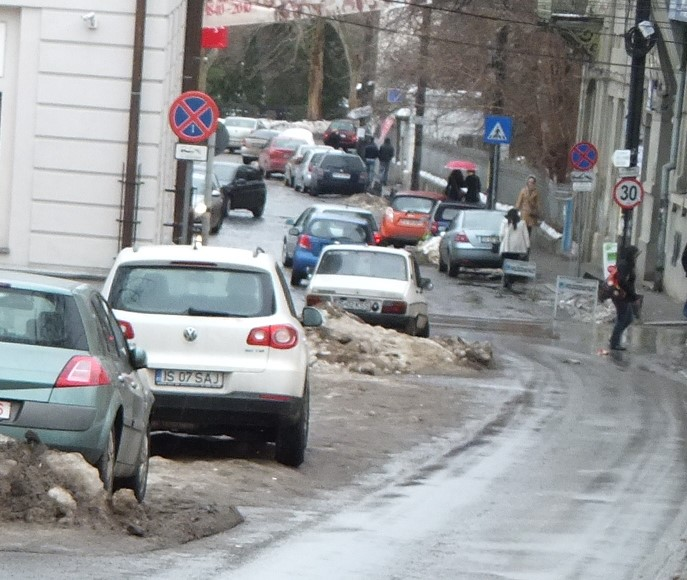IS07SAJ: (154, 367, 226, 386)
